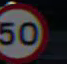Speed limit: (0, 0, 48, 63)
